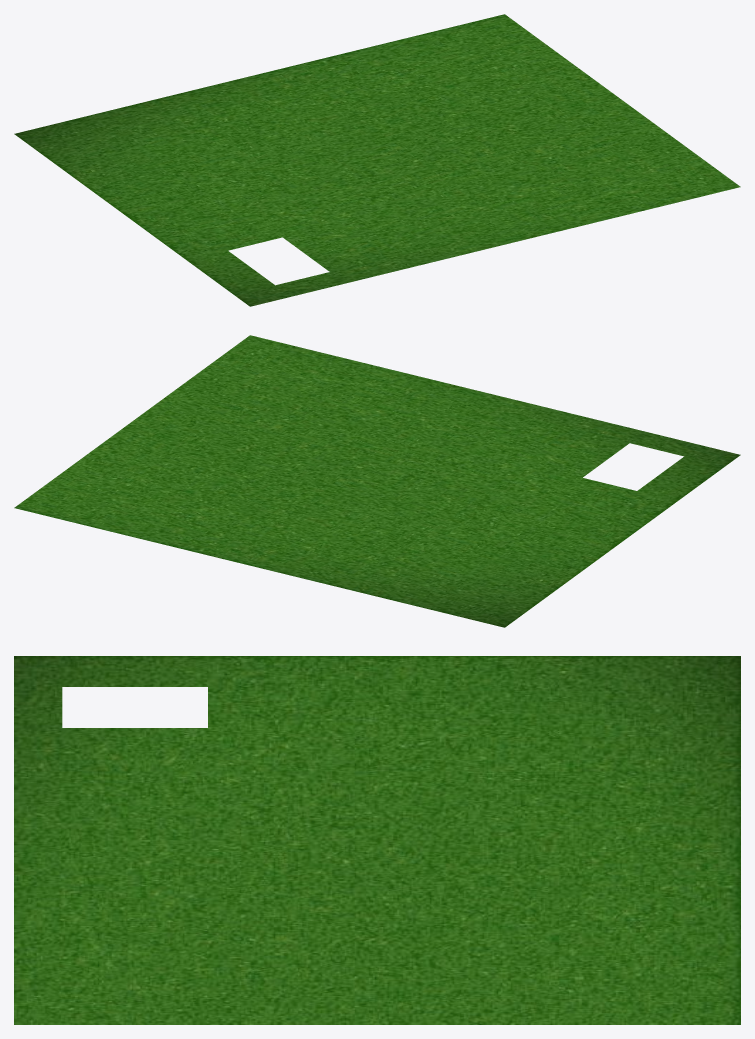
File: Plano.obj
3 views of the same model, one above another, from view 1: azimuth 30°, elevation 25°; view 2: azimuth 150°, elevation 25°; view 3: azimuth 270°, elevation 25° (orthographic). The views are drawn at different scales.
Parts seen in each view (by area): view 1: Planoprincipal; view 2: Planoprincipal; view 3: Planoprincipal.
Part boxes in pixels (x1,y1,x2,y2): Planoprincipal: (14,14,740,306); Planoprincipal: (14,335,740,627); Planoprincipal: (14,656,740,1024).
Bounding box in the file's own units: 36 × 0 × 30.
Materials: 1 (1 with a texture image).
